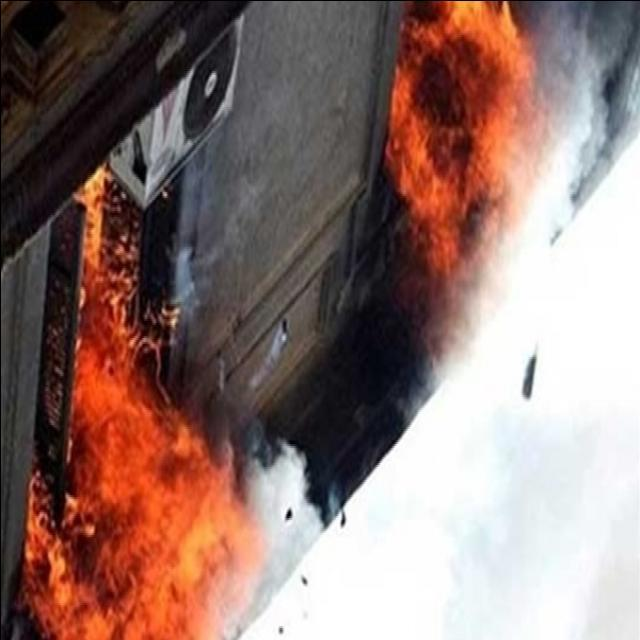Fire: (21, 197, 255, 630), (388, 0, 538, 292)
